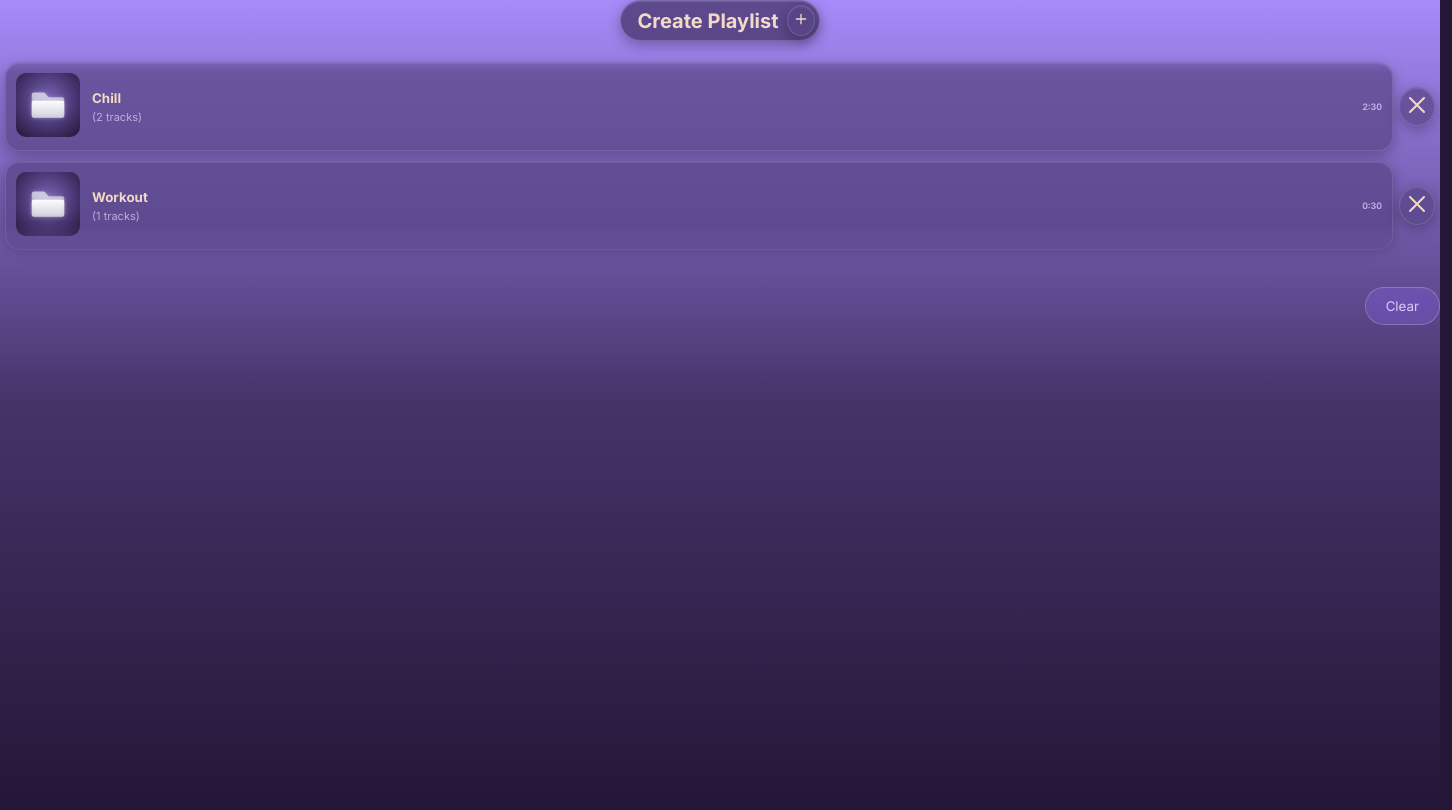
Test case: PlaylistSelectionList › renaming a playlist › opens with the playlist's current name, even after typing something else last time
Click the button "Chill (2 tracks) 2:30".
click(48, 105)  # box [5,62,1393,151]
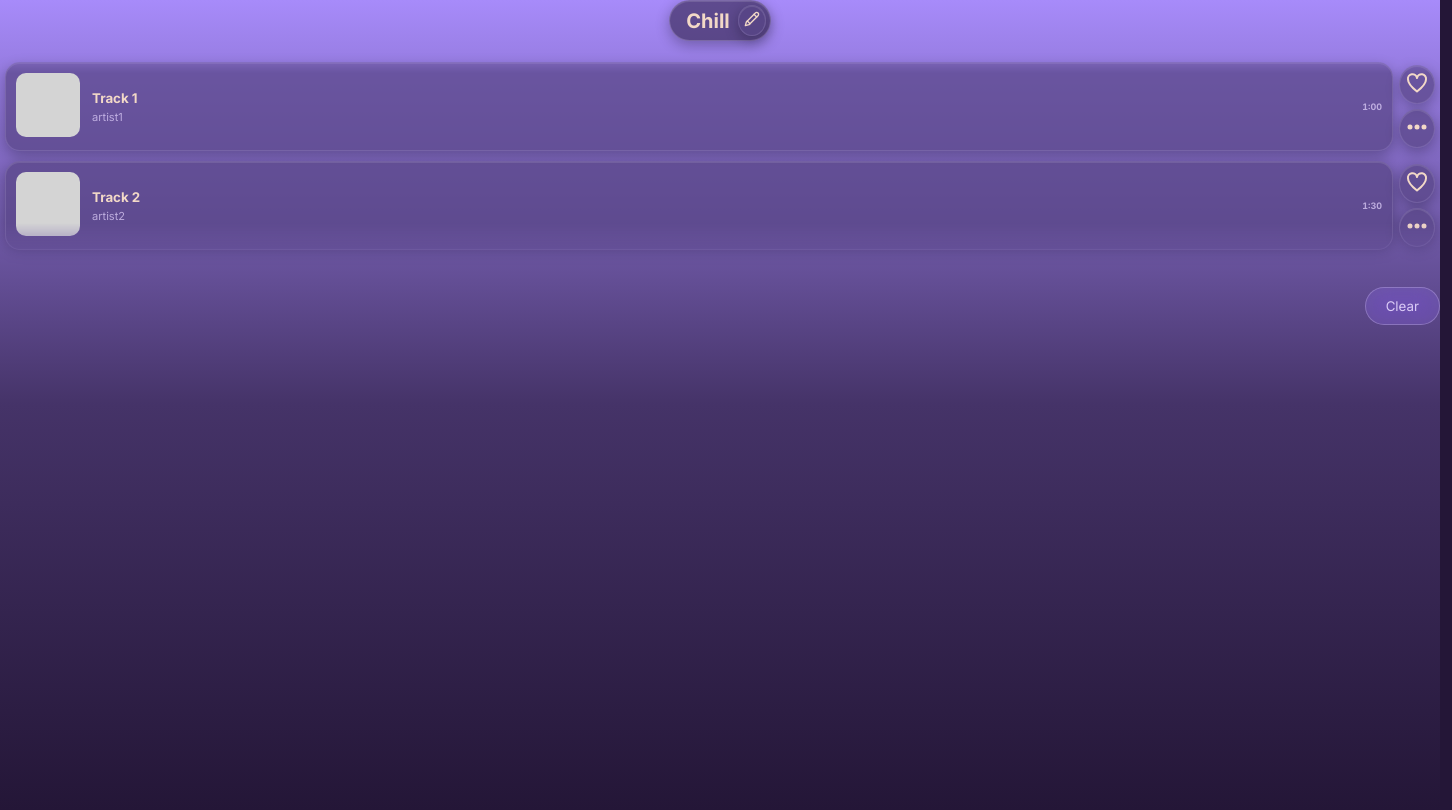
Click the button named "rename playlist".
click(752, 20)  # box [738,5,766,36]
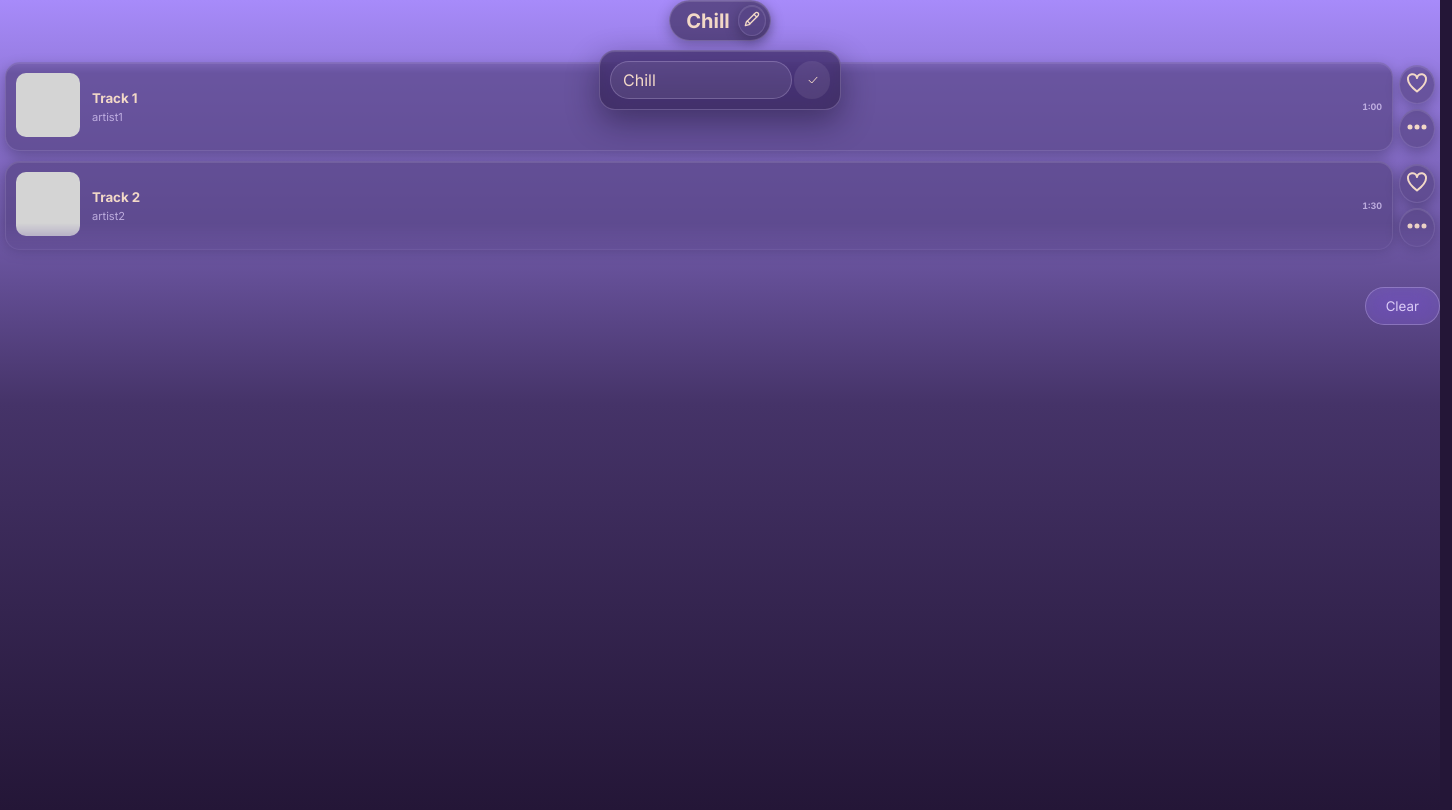
Result: the field with placeholder "Playlist name" holds "Chill"
Replace the text in the field with placeholder "Playlist name" with "Late Night" at (701, 80), box [610,61,792,99]
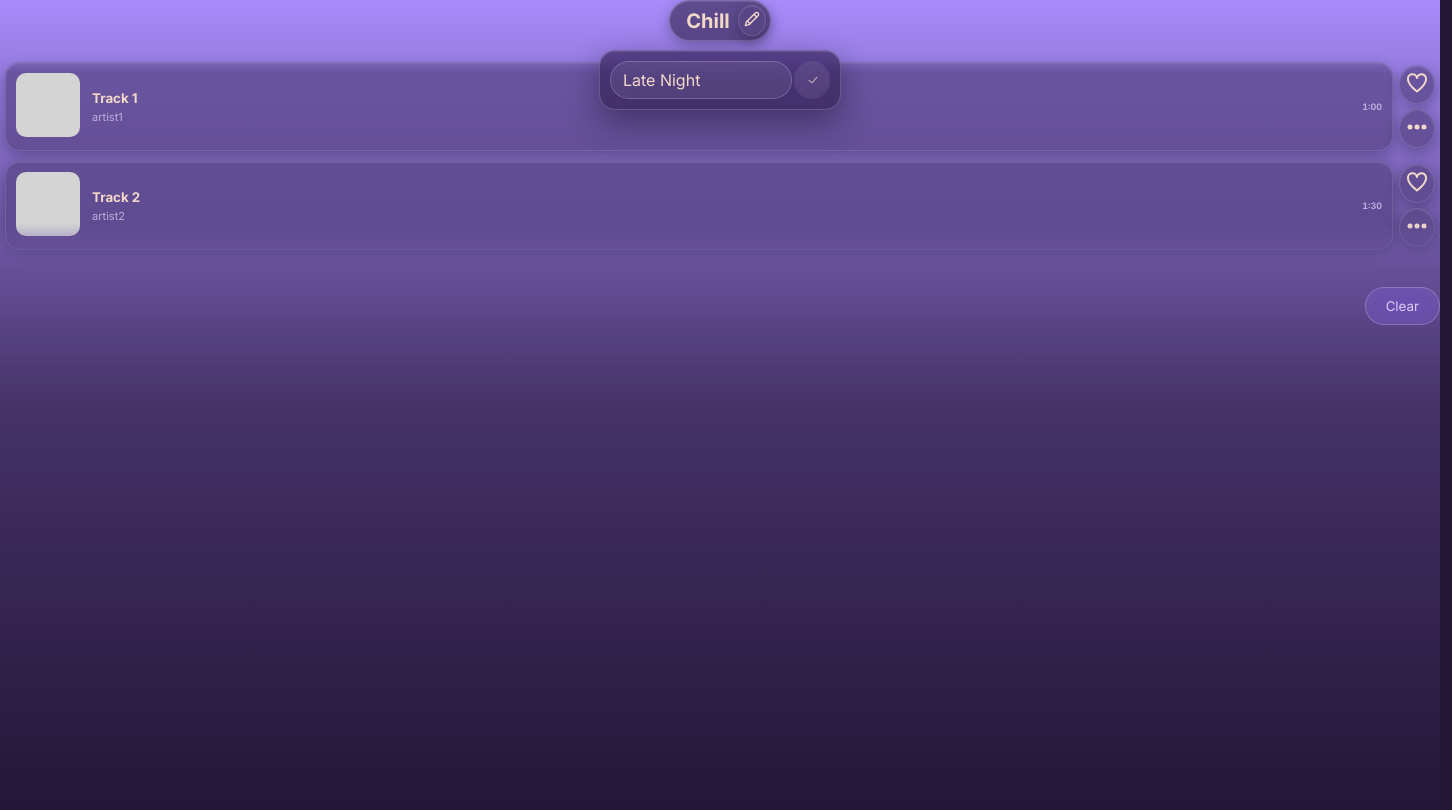
Press the mouse on the element showing "Chill Track 1 artist1 1:00 Track 2 artist2 1:30 Clear" at (720, 162), box [0,0,1440,325]
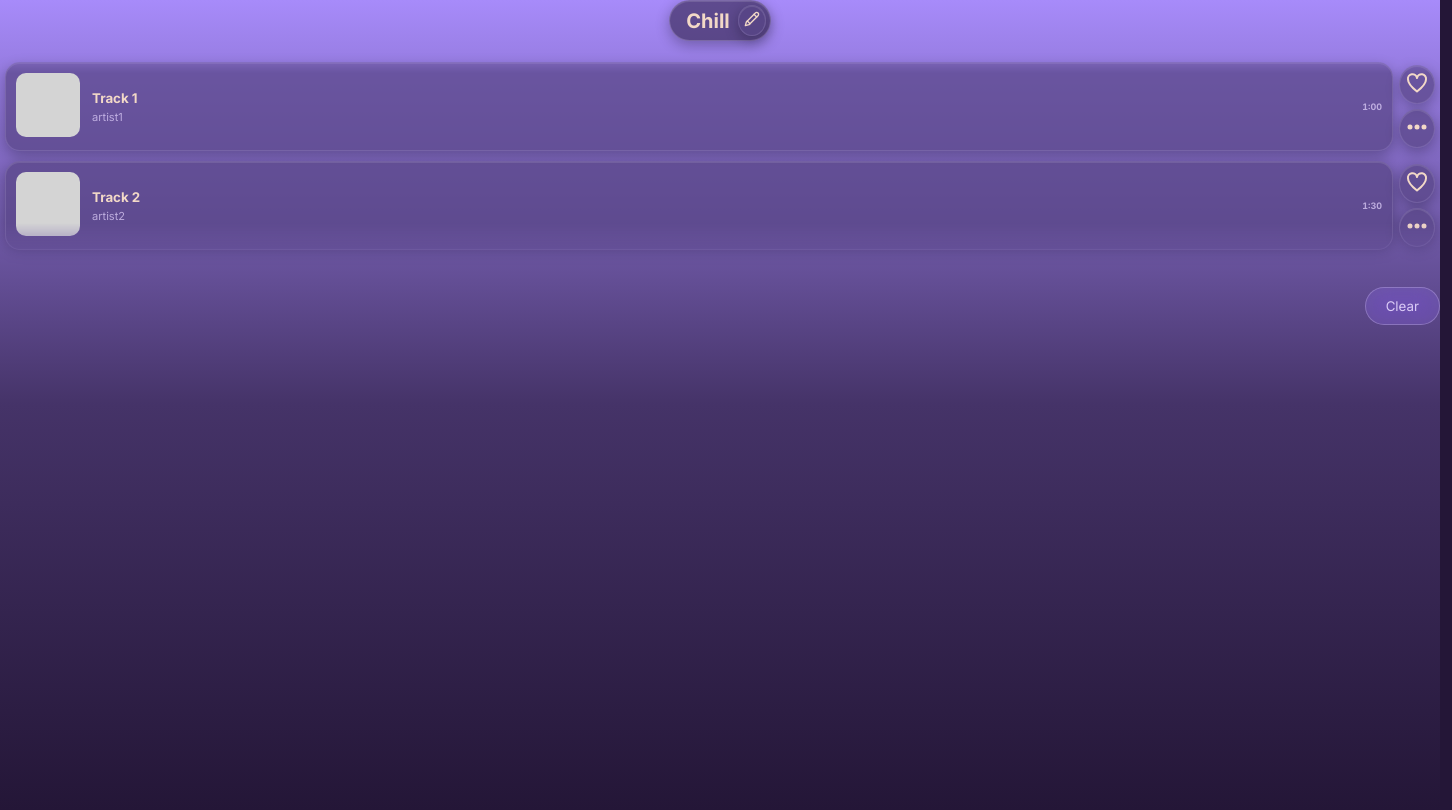
Click the button named "rename playlist".
click(752, 20)  # box [738,5,766,36]
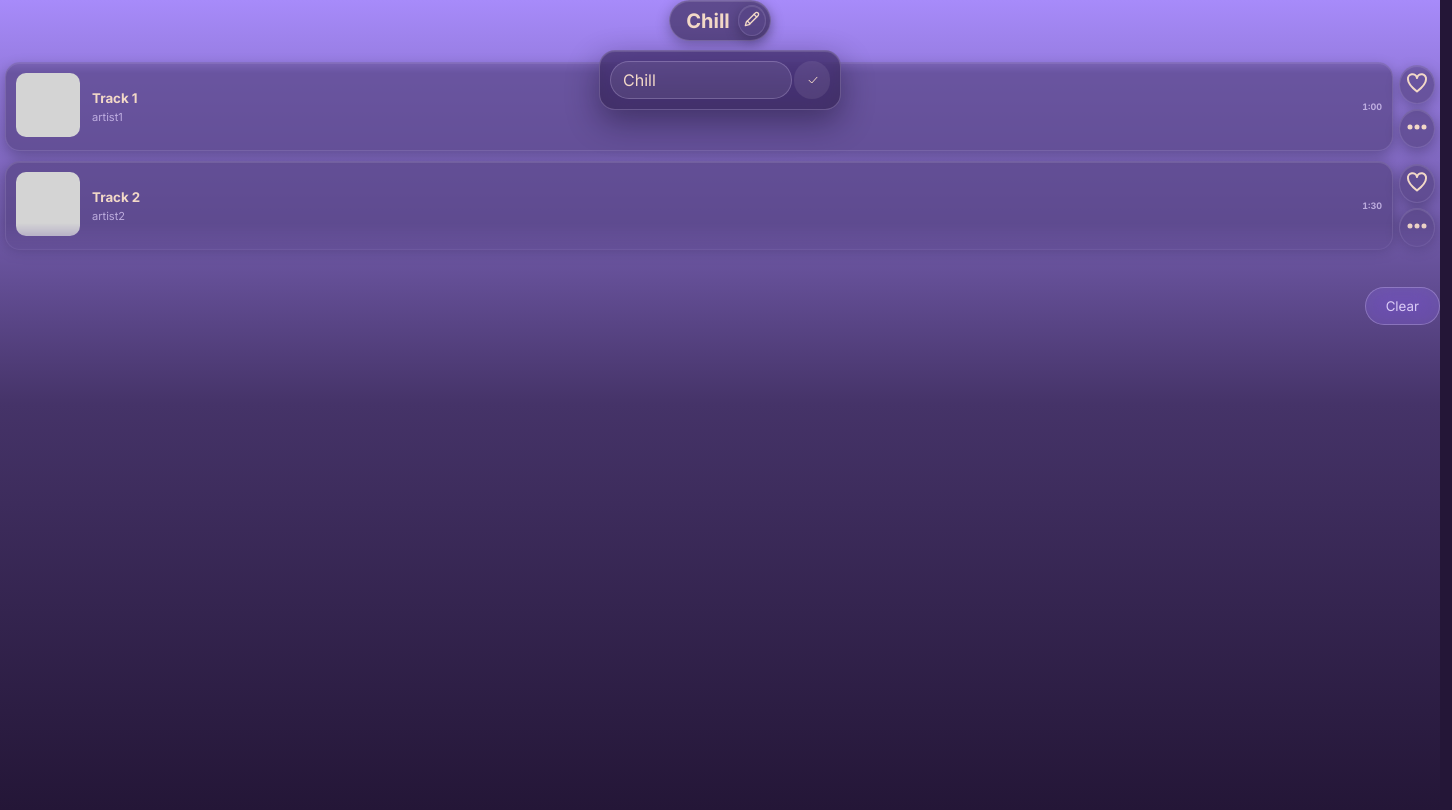
Result: the field with placeholder "Playlist name" holds "Chill" at [610,61,792,99]
